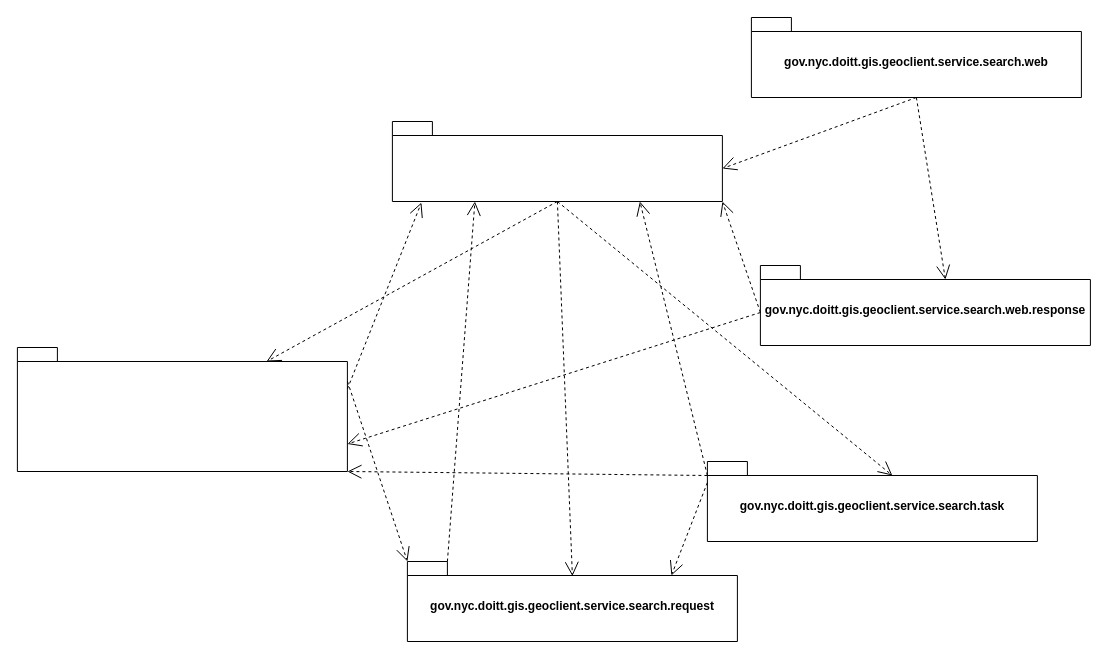
Some shapes in this 1108 by 659 pixel diagram are drawn without their labels. Each missing label, with the centre of its shape:
gov.nyc.doitt.gis.geoclient.service.search: pixel 556 161
gov.nyc.doitt.gis.geoclient.service.search.policy: pixel 181 409
